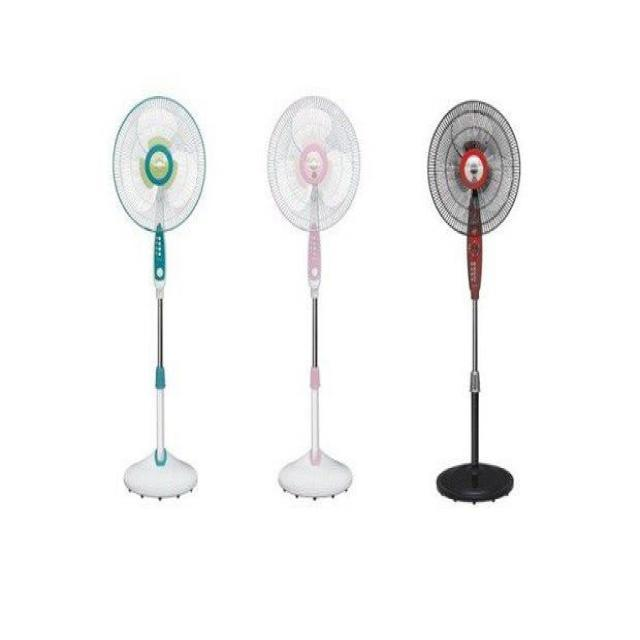fan: (118, 78, 212, 507)
